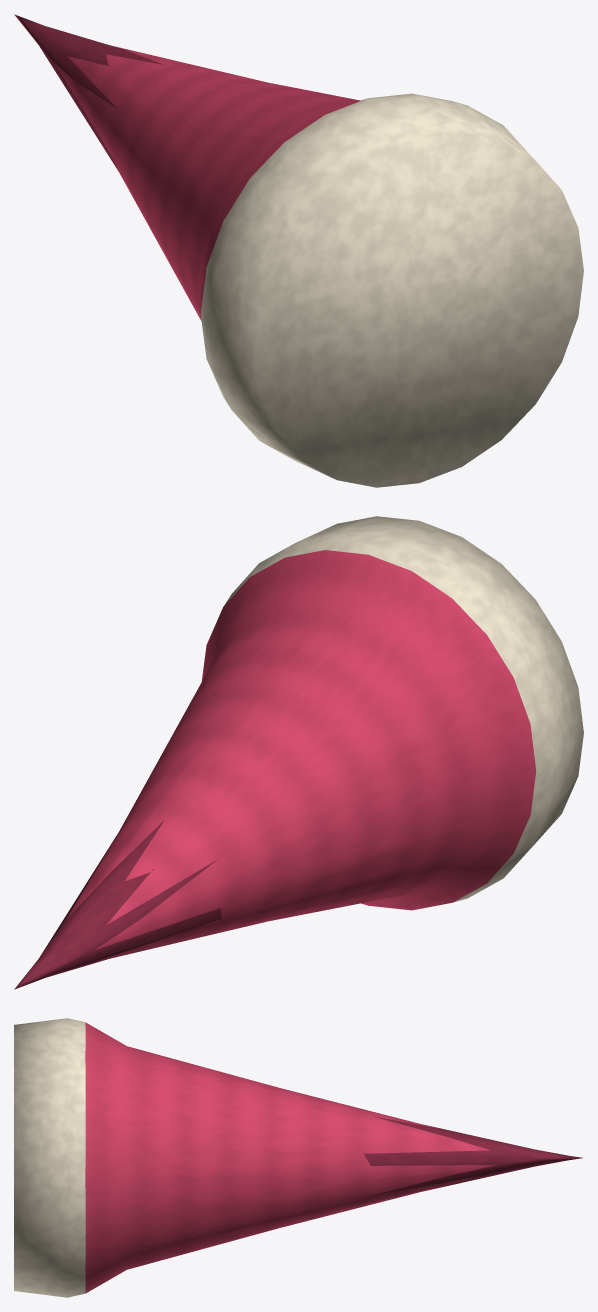
Rendered from part_spike.glb.
3 renders of one model, top to bottom at view 1: azimuth 30°, elevation 25°; view 2: azimuth 150°, elevation 25°; view 3: azimuth 270°, elevation 25°, orthographic. The views are drawn at different scales.
Parts seen in each view (by area): view 1: Spike; view 2: Spike; view 3: Spike.
Boxes of the visible parts, <box> form: Spike: <box>14,14,583,487</box>; Spike: <box>14,516,583,989</box>; Spike: <box>14,1018,582,1297</box>.
Size of the model in its own units: 0.1575 by 0.1575 by 0.32.
Materials: 3 (3 with a texture image).
